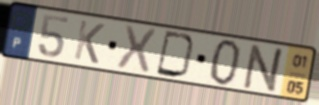0: (207, 38, 243, 88)
5: (36, 12, 70, 59)
D: (154, 29, 198, 80)
K: (71, 18, 107, 66)
N: (240, 43, 289, 95)
X: (114, 23, 159, 75)
